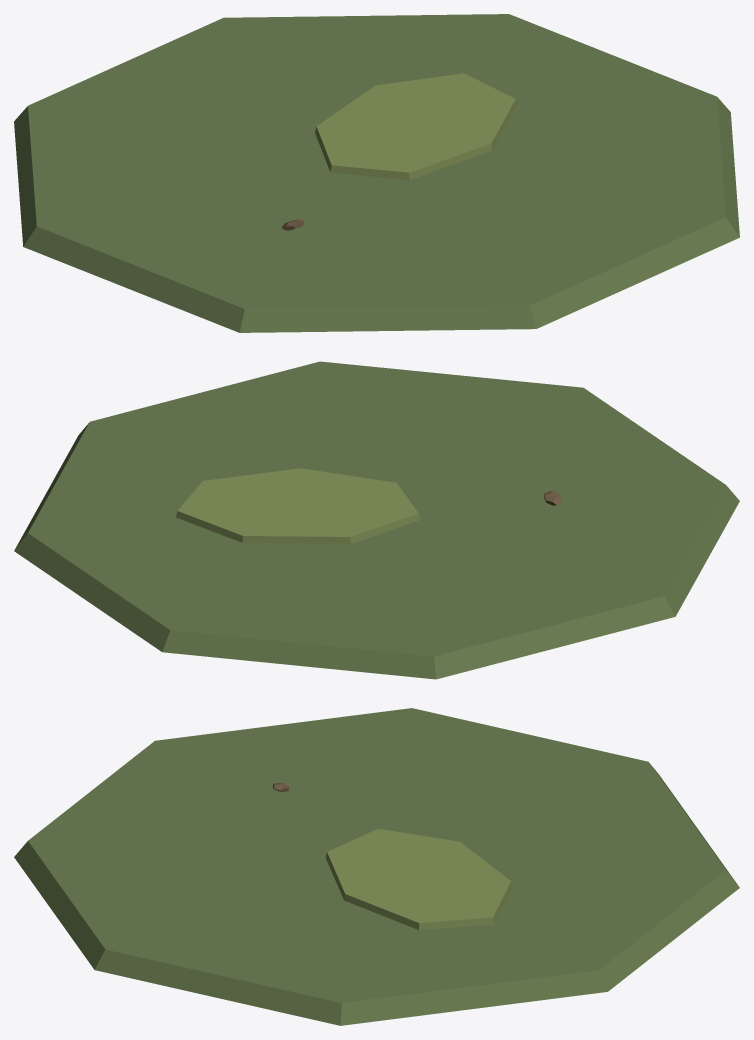
The model's file is terrain-2.glb.
3 renders of one model, top to bottom at view 1: azimuth 30°, elevation 25°; view 2: azimuth 150°, elevation 25°; view 3: azimuth 270°, elevation 25°, orthographic. The views are drawn at different scales.
Parts seen in each view (by area): view 1: slab (×2); view 2: slab (×2); view 3: slab (×2).
Boxes of the visible parts, x1=… form: slab (×2): x1=14, y1=14, x2=739, y2=332; slab (×2): x1=14, y1=361, x2=739, y2=679; slab (×2): x1=14, y1=708, x2=739, y2=1025.
Bounding box in the file's own units: 6.21 × 0.259 × 6.21.
